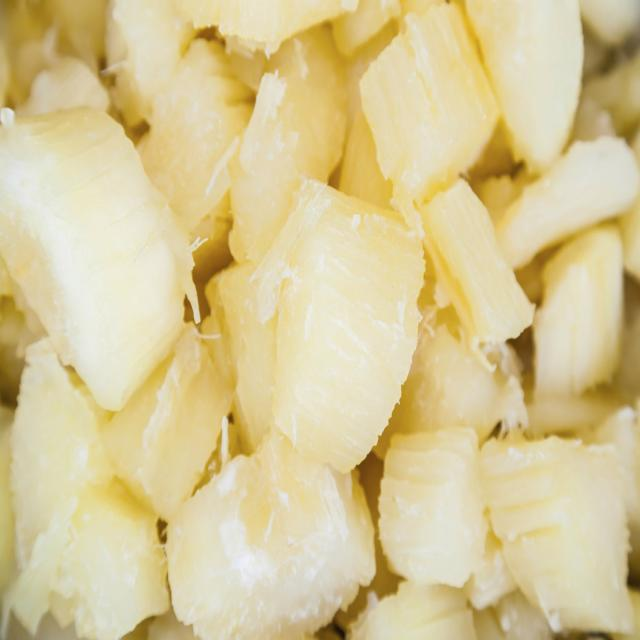yuca: (250, 166, 437, 476)
